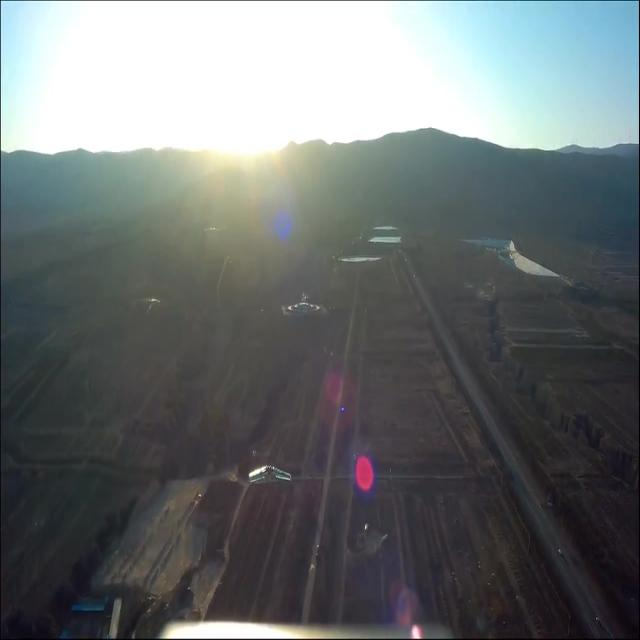iha: (248, 462, 291, 486)
